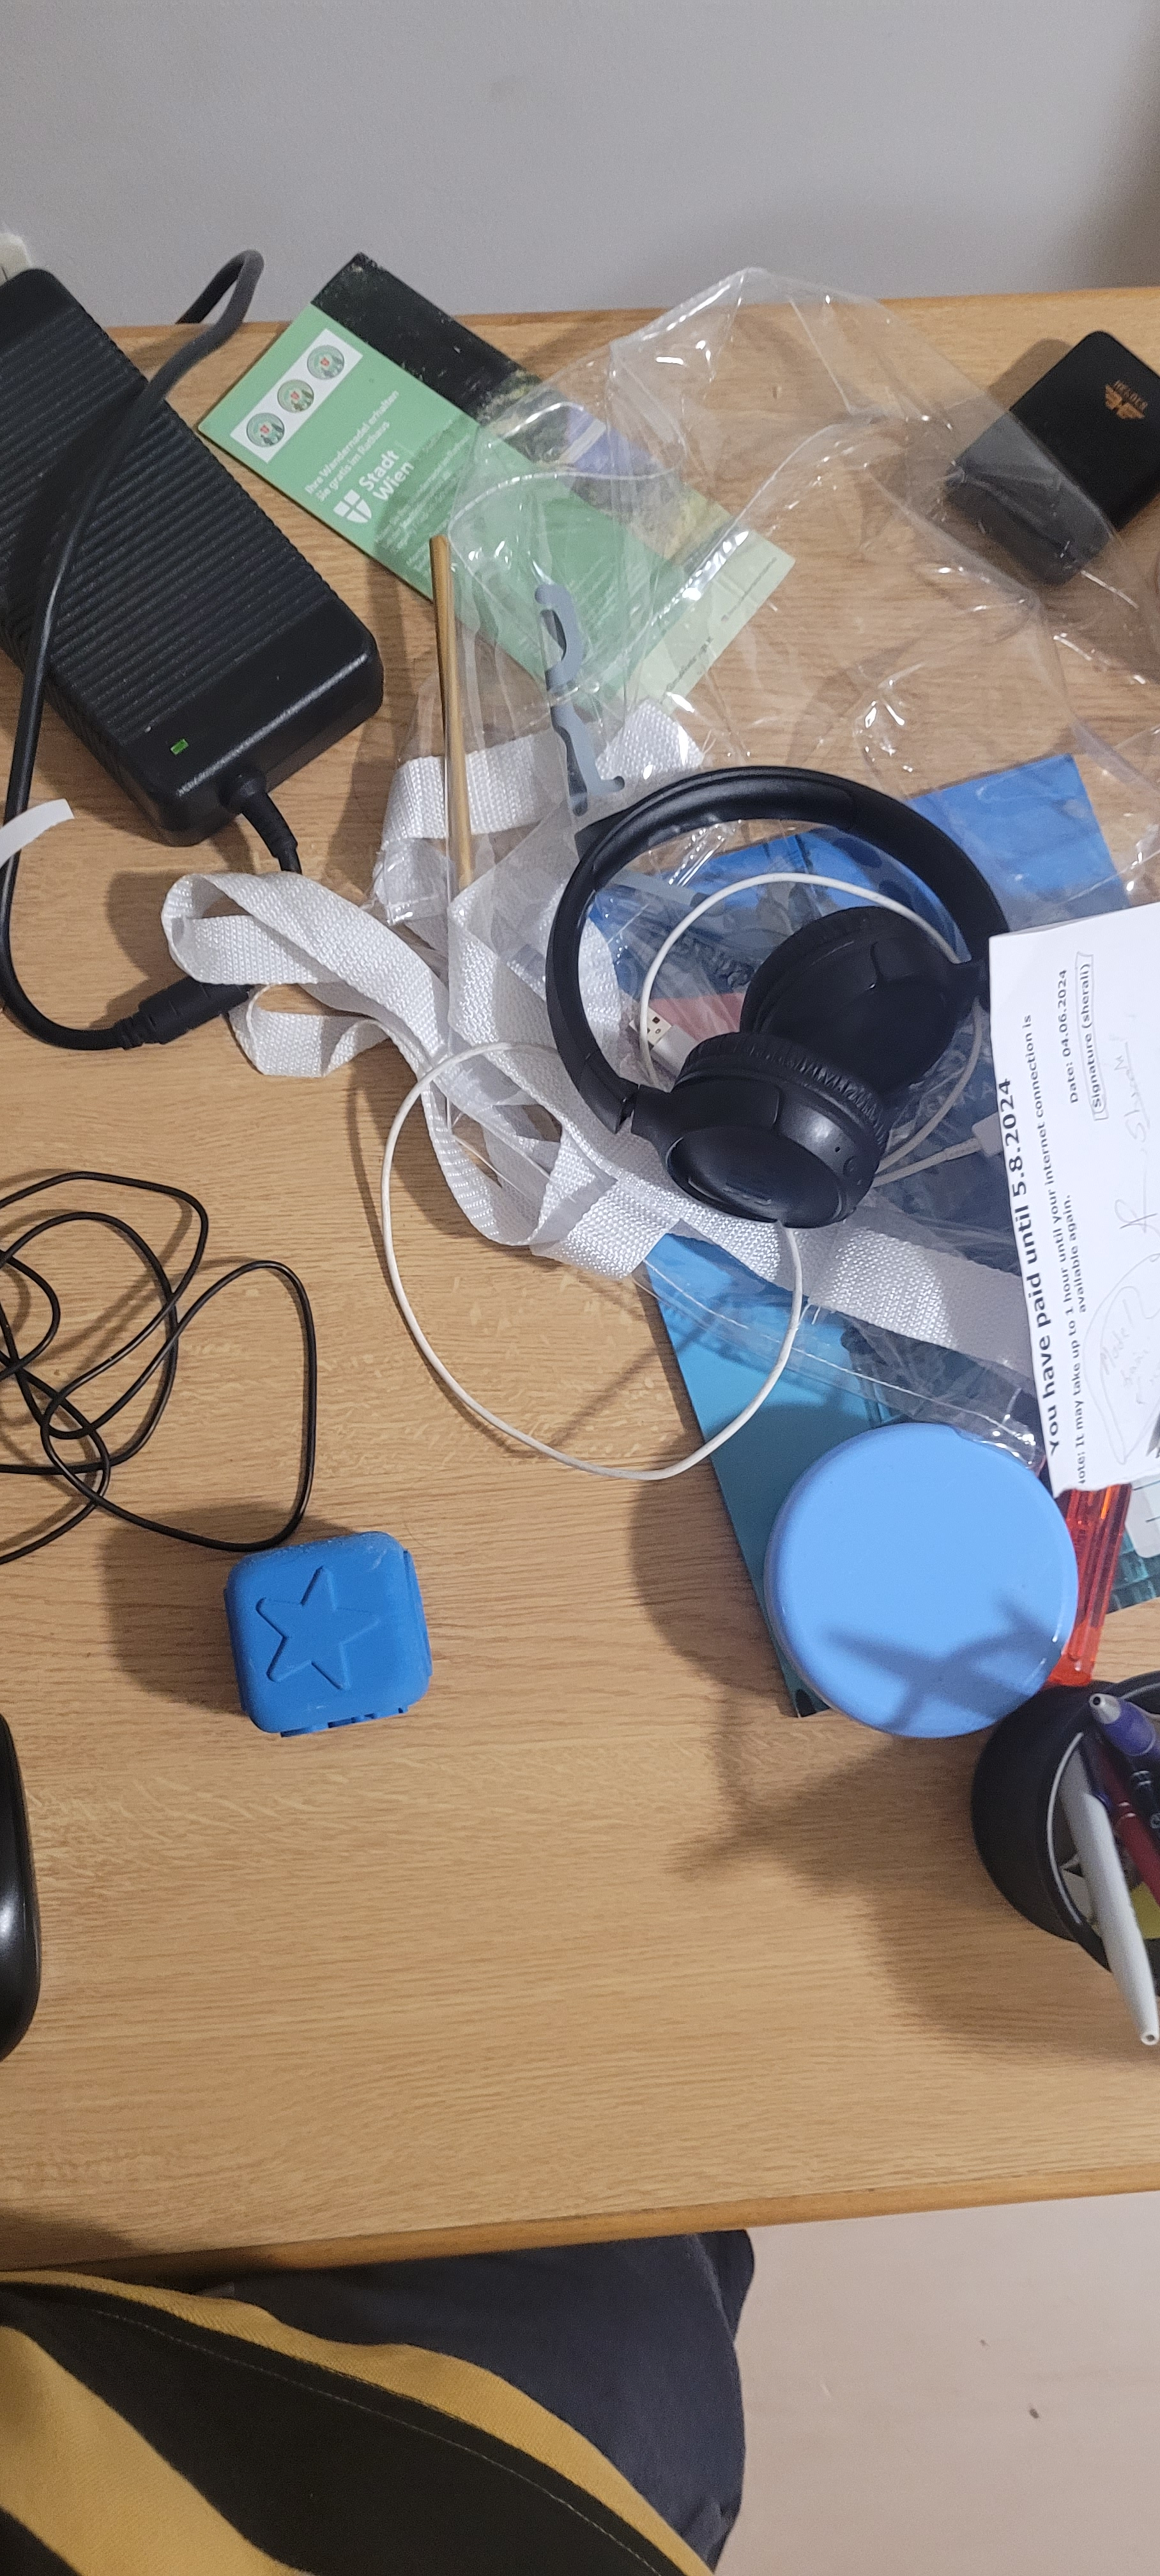Star: (251, 1575, 396, 1705)
